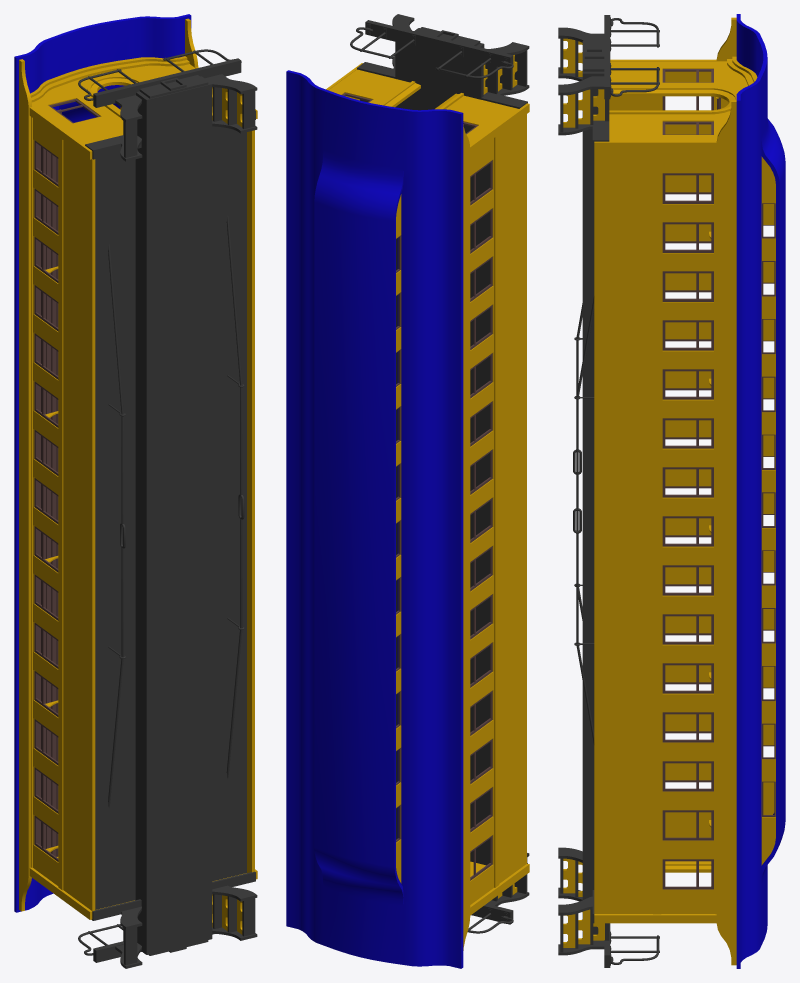
The model's file is PassengerWagon_01_LOD0.fbx.
3 renders of one model, left to right at view 1: azimuth 30°, elevation 25°; view 2: azimuth 150°, elevation 25°; view 3: azimuth 270°, elevation 25°, orthographic.
Visible parts, largest first — view 1: PassengerWagon_01_LOD0; view 2: PassengerWagon_01_LOD0; view 3: PassengerWagon_01_LOD0.
Part boxes in pixels (x1=…): PassengerWagon_01_LOD0: x1=14, y1=14, x2=257, y2=968; PassengerWagon_01_LOD0: x1=286, y1=14, x2=529, y2=968; PassengerWagon_01_LOD0: x1=558, y1=14, x2=785, y2=968.
Size of the model in its own units: 4.06 by 19.24 by 4.5.
